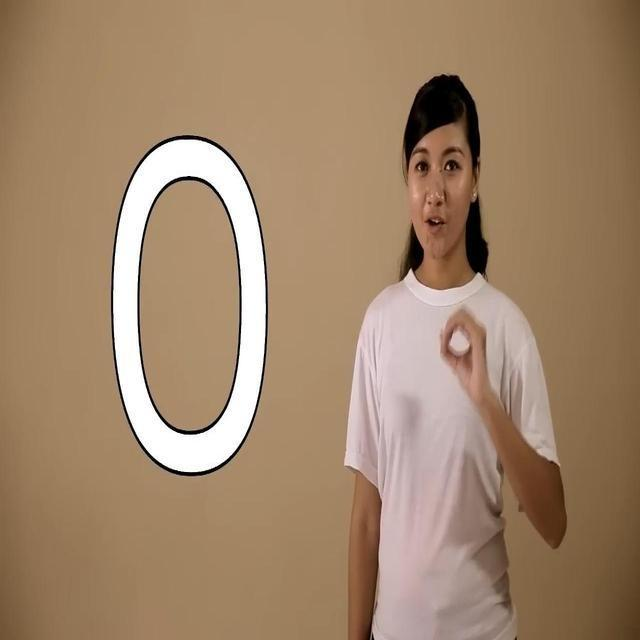O: (434, 304, 489, 381)
